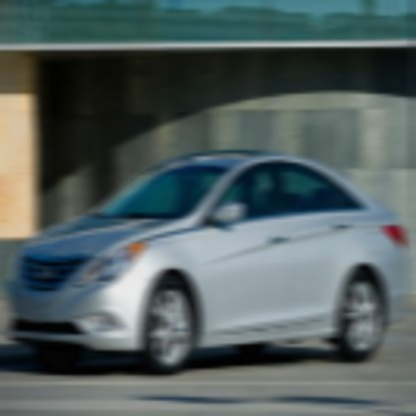Vehicle: (8, 148, 413, 382)
